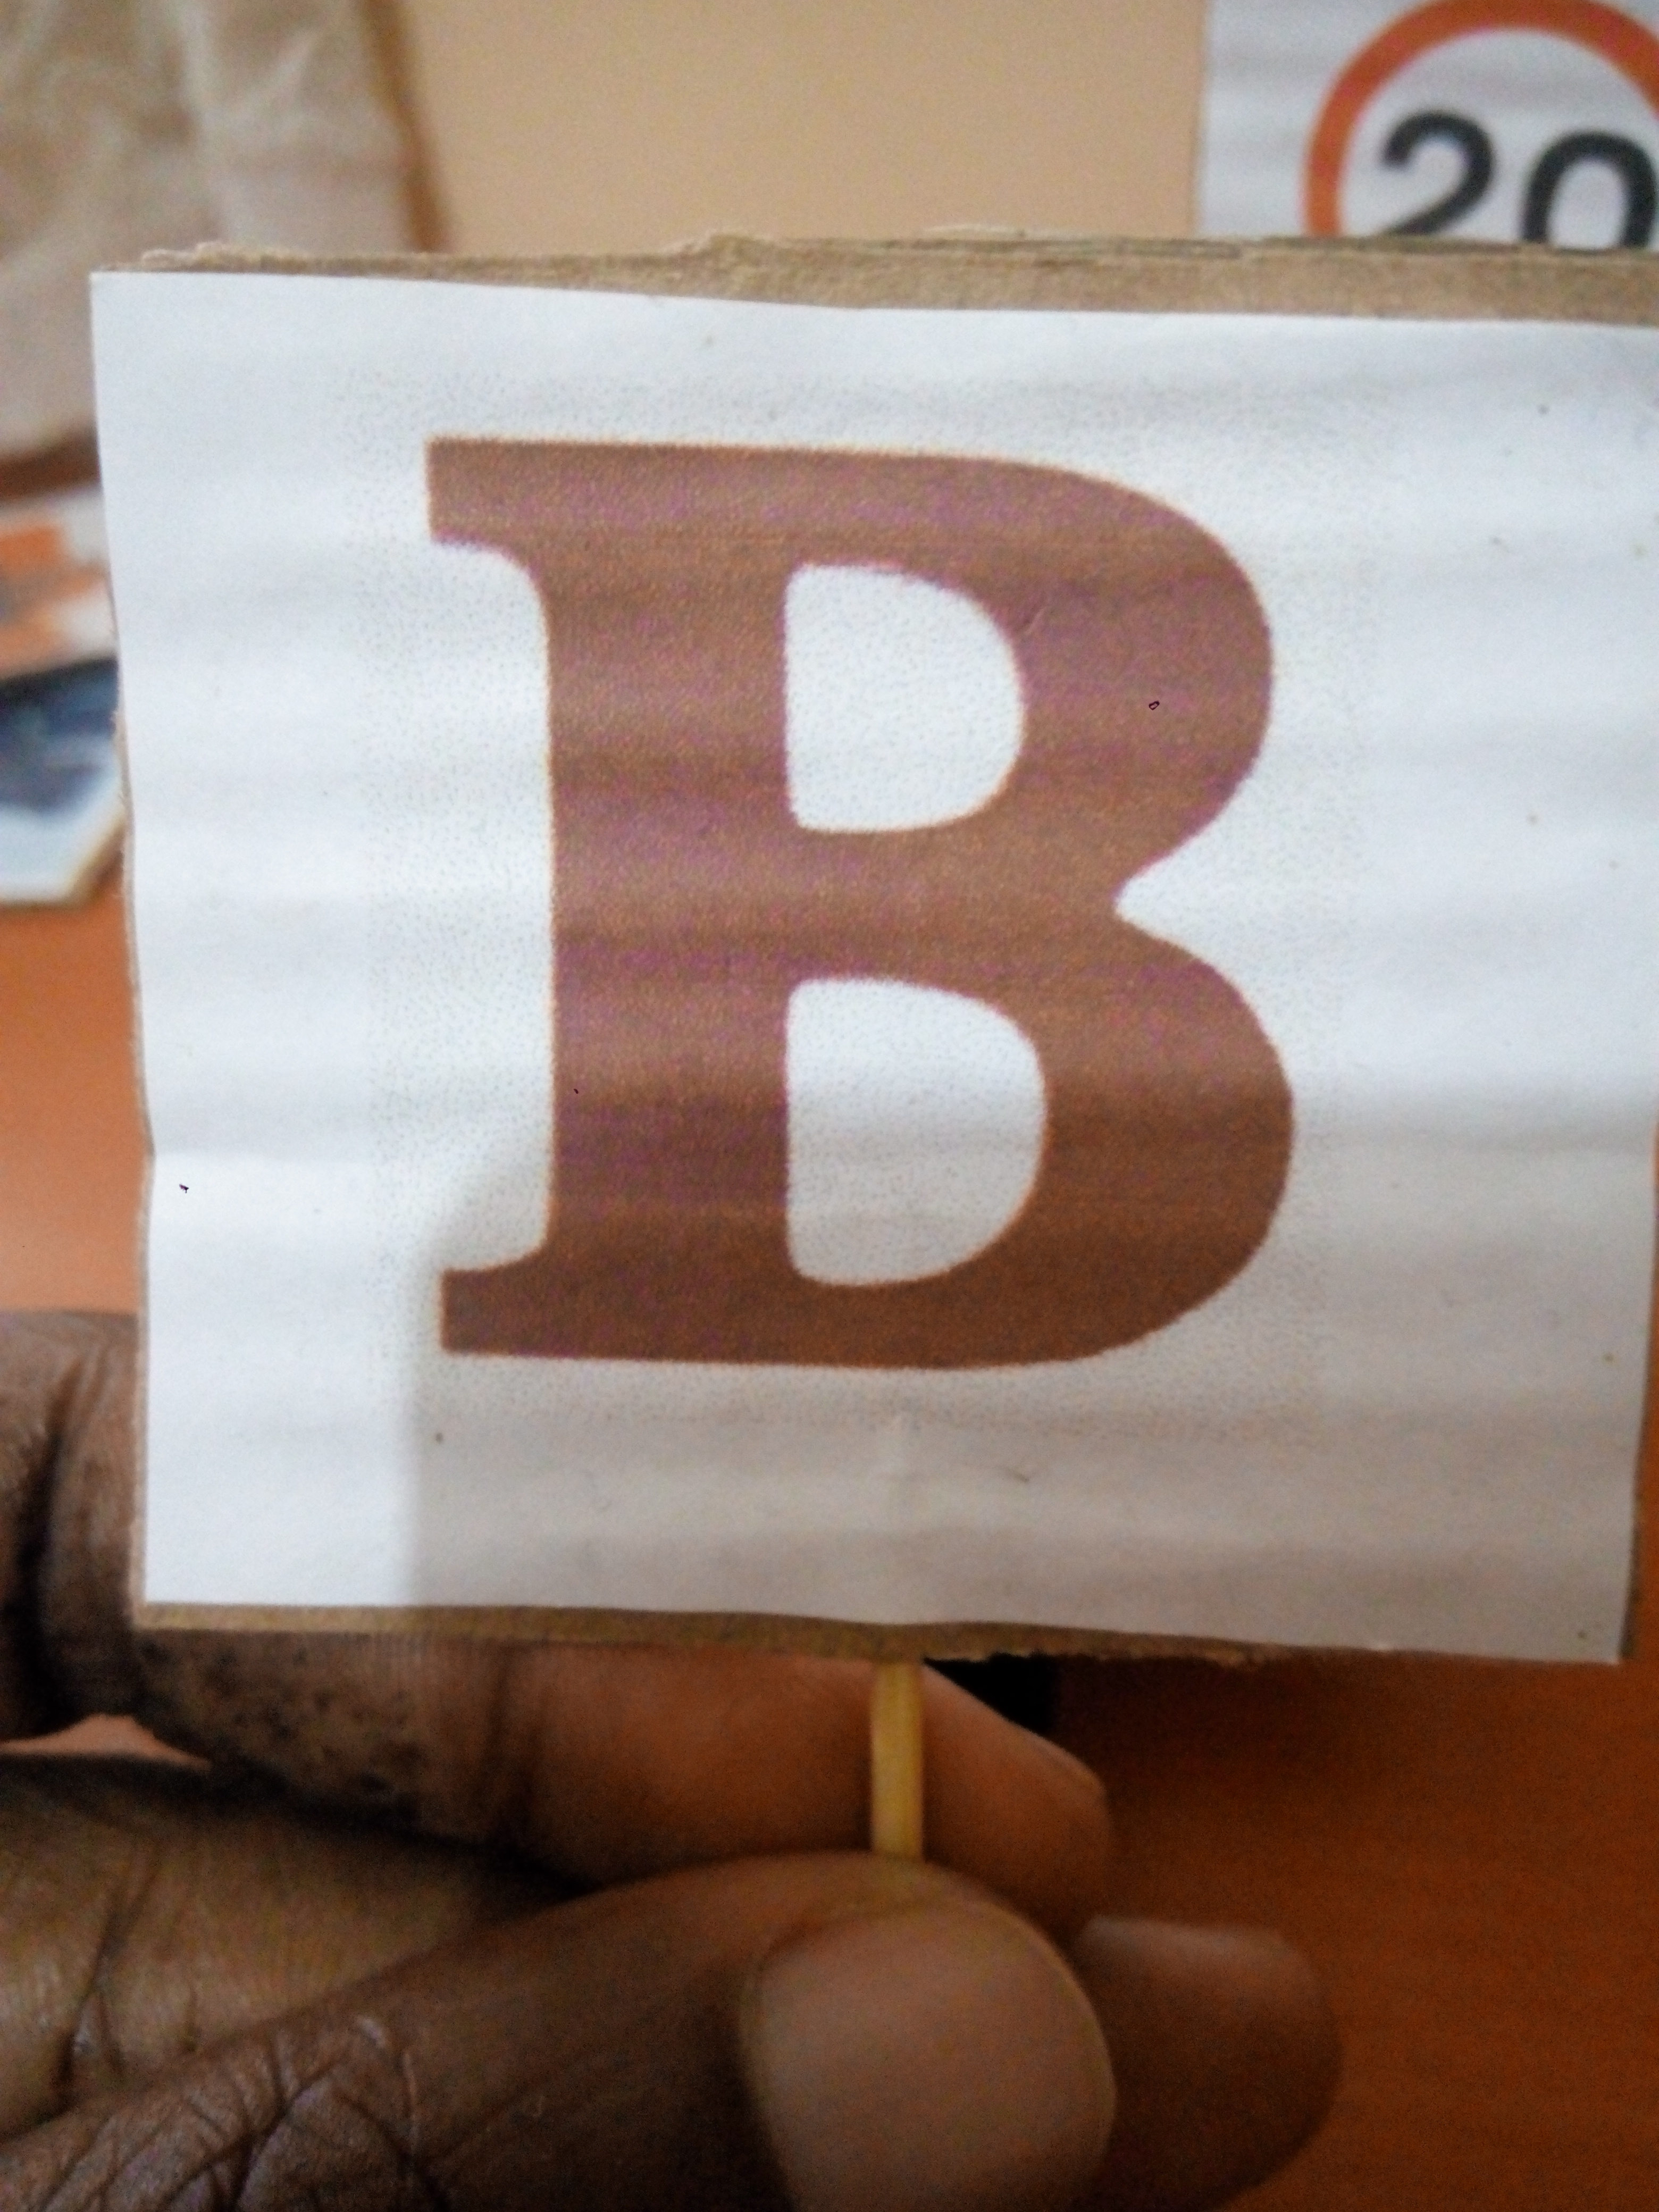zone B: (267, 373, 1333, 1496)
